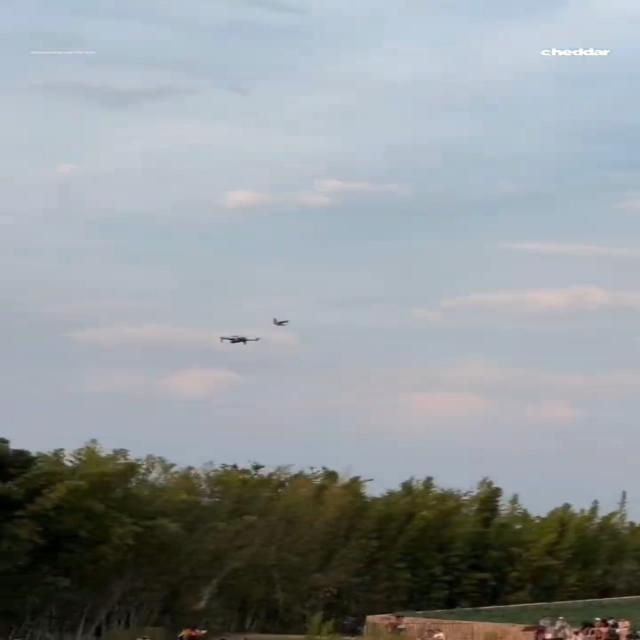bird: (272, 318, 289, 327)
drone: (218, 335, 260, 345)
